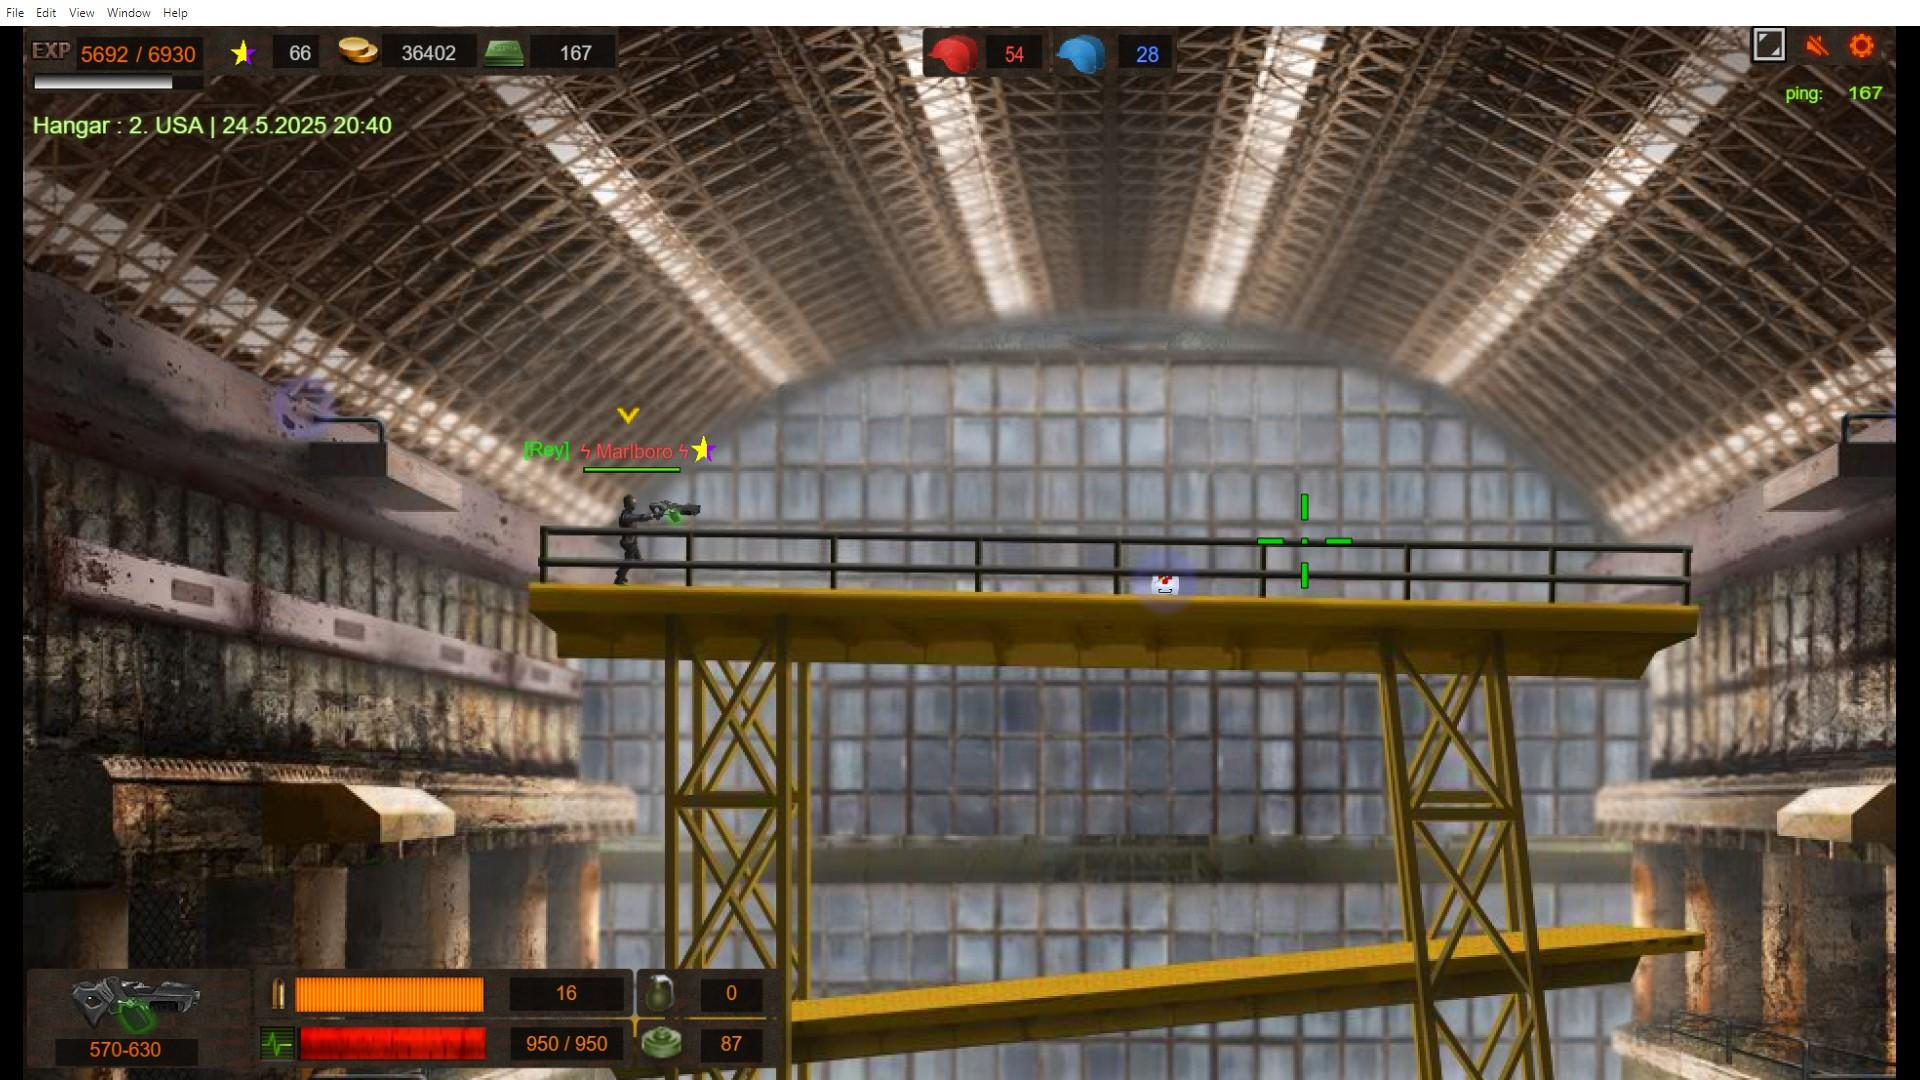enemy: (618, 496, 642, 591)
